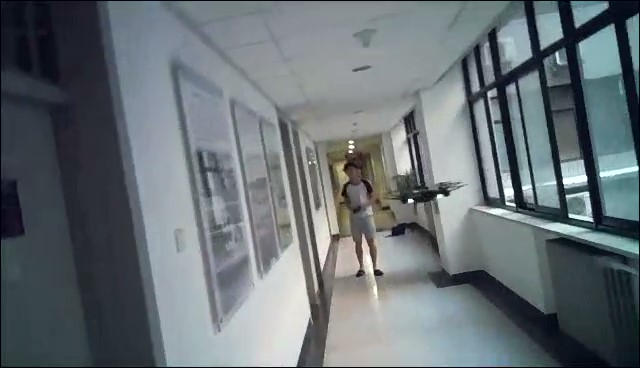drone: (378, 179, 471, 215)
person: (335, 161, 388, 281)
